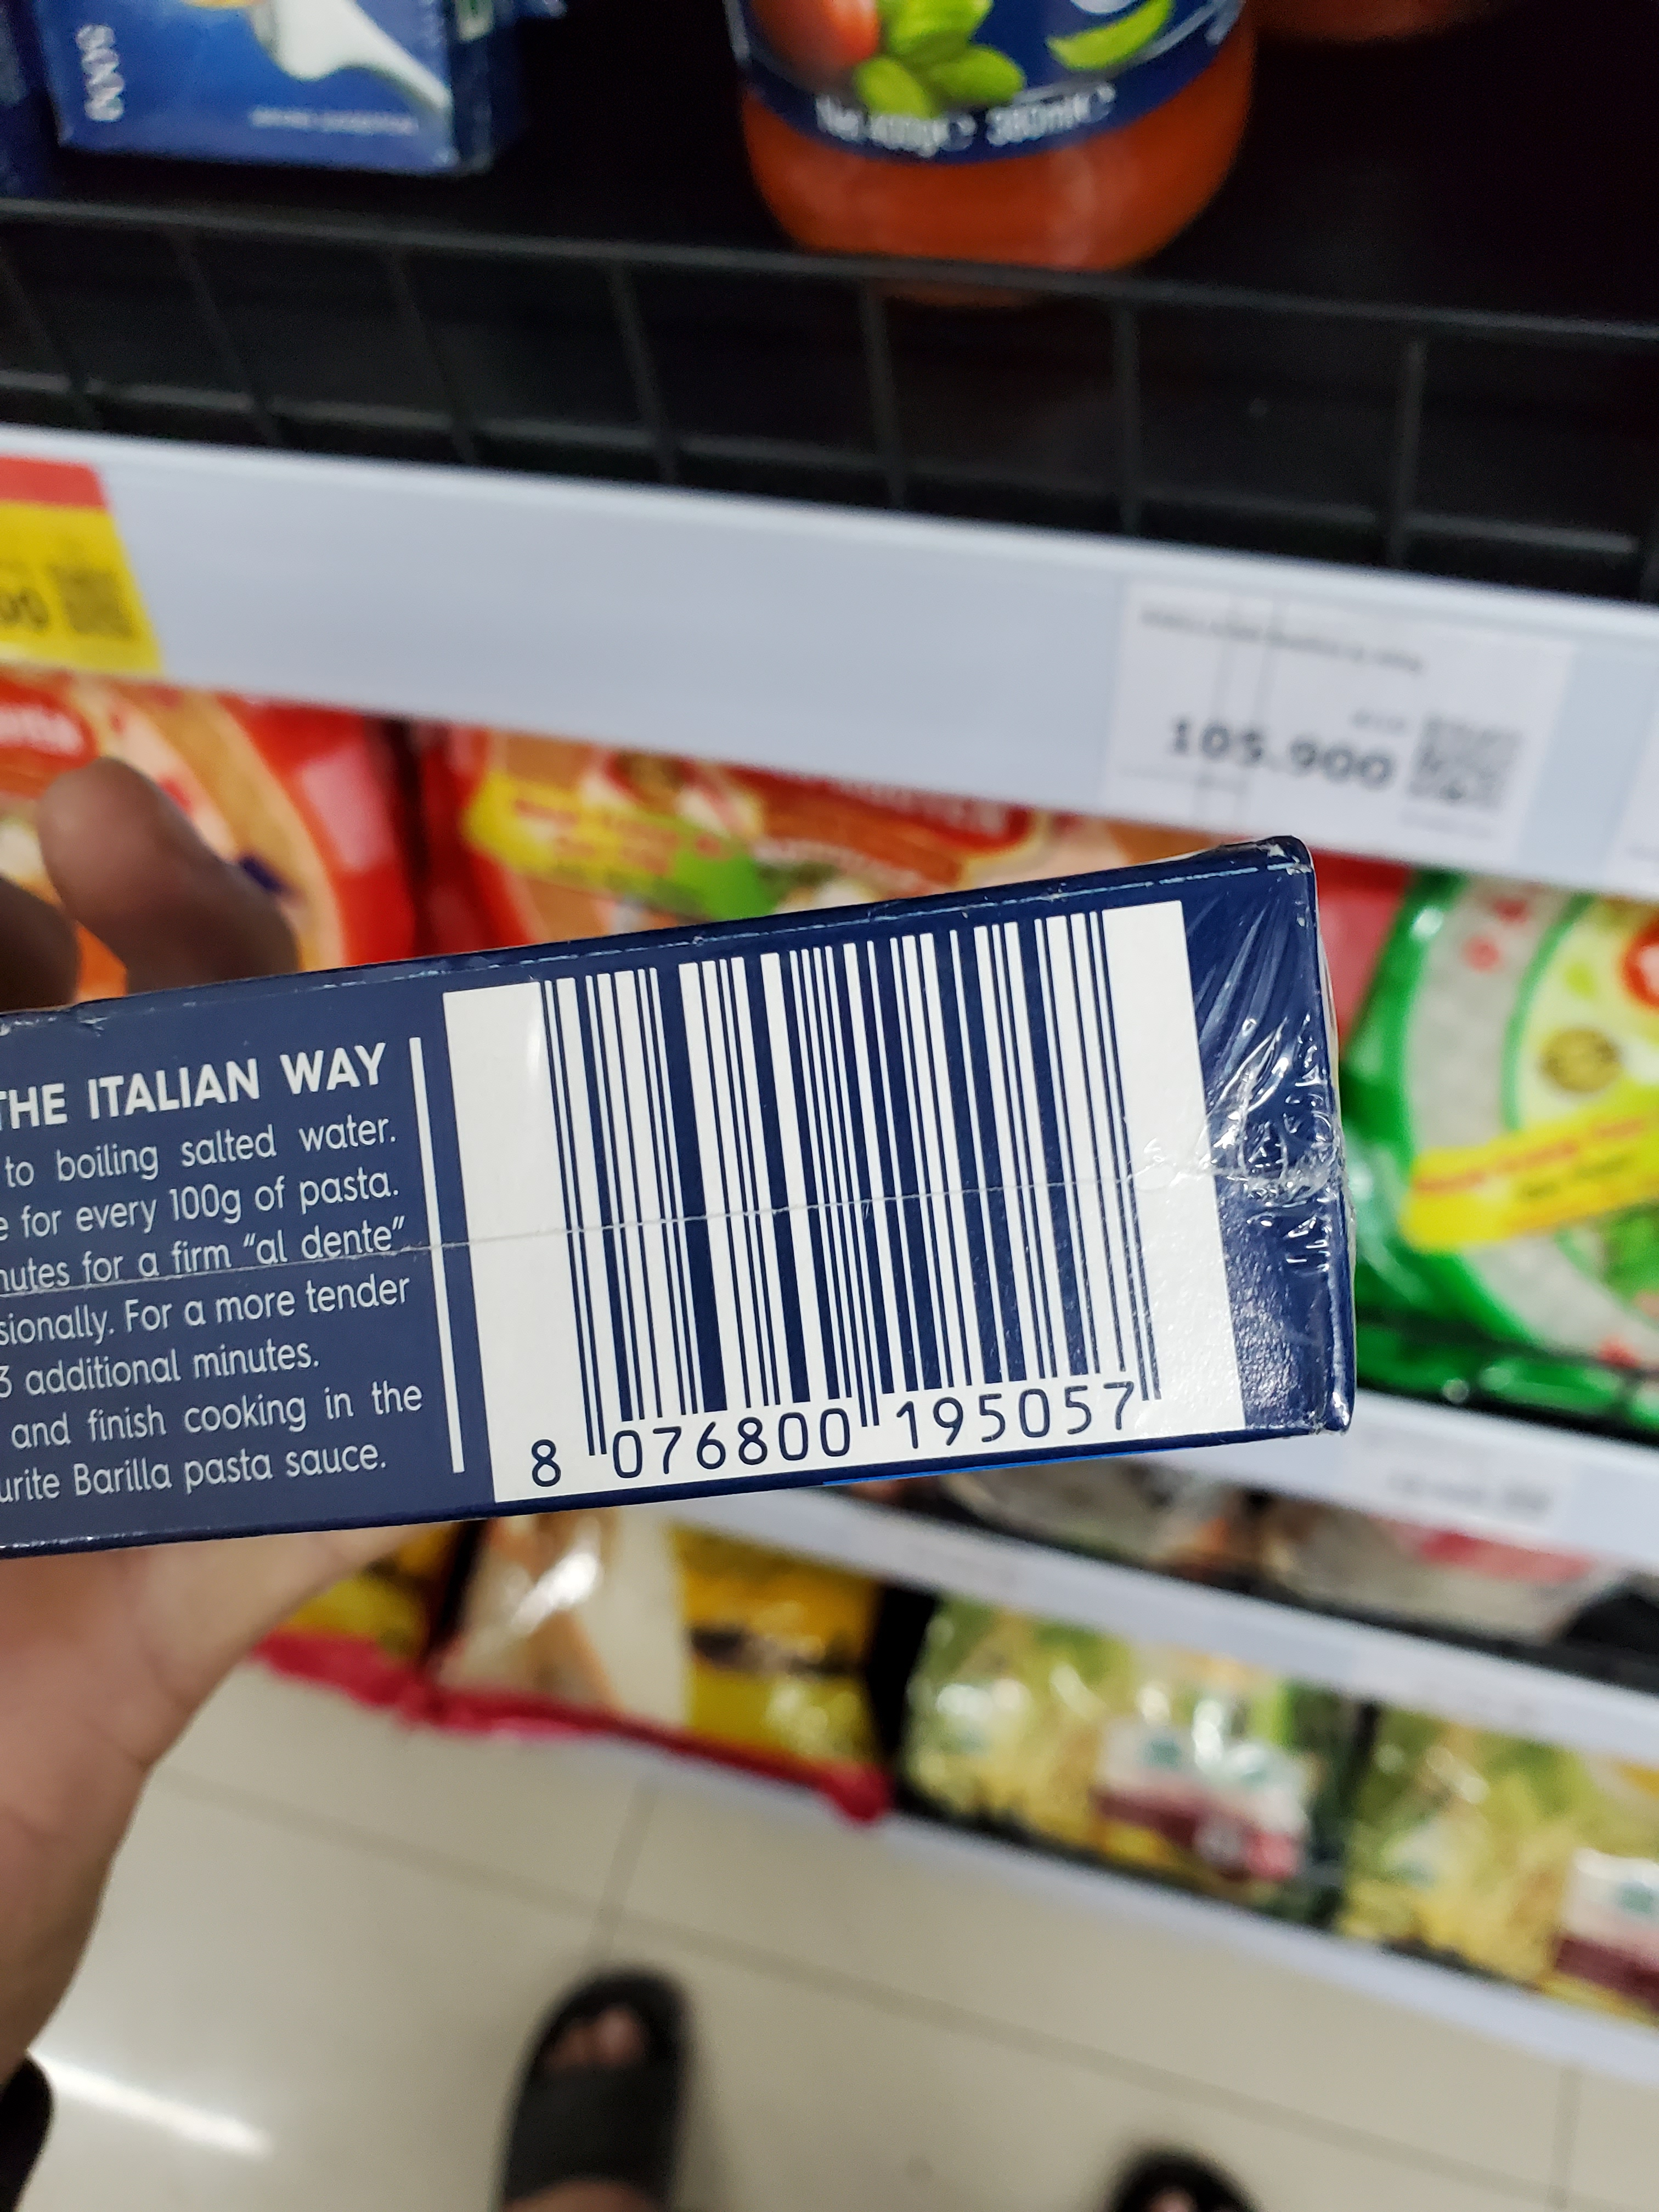BARCODE: (416, 894, 1197, 1512)
